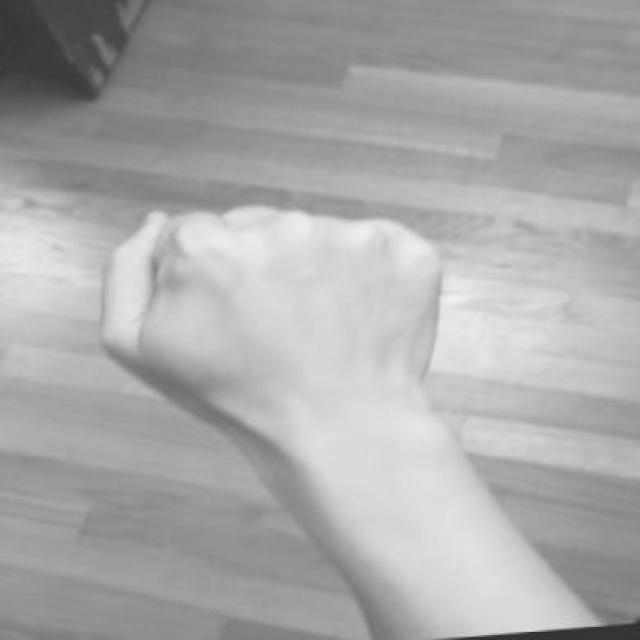A: (83, 183, 460, 462)
